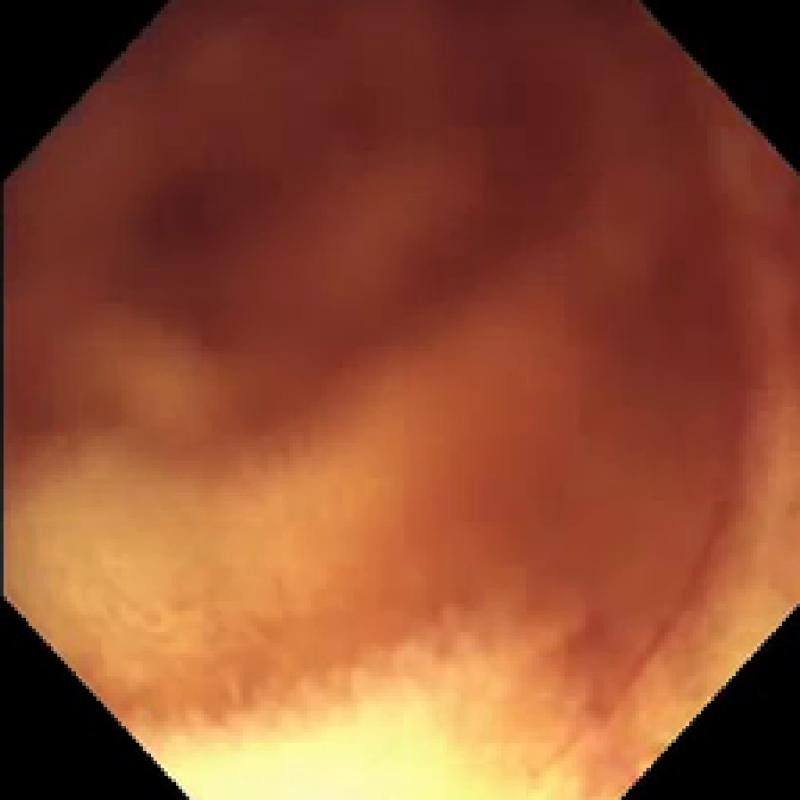bleeding: (28, 4, 768, 728)
